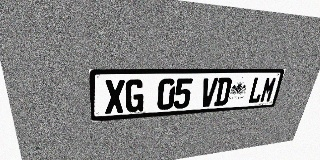0: (157, 79, 176, 110)
5: (173, 78, 193, 109)
D: (214, 77, 233, 106)
G: (125, 79, 145, 113)
L: (247, 77, 266, 104)
M: (259, 77, 278, 103)
V: (199, 78, 218, 107)
X: (104, 79, 125, 114)
